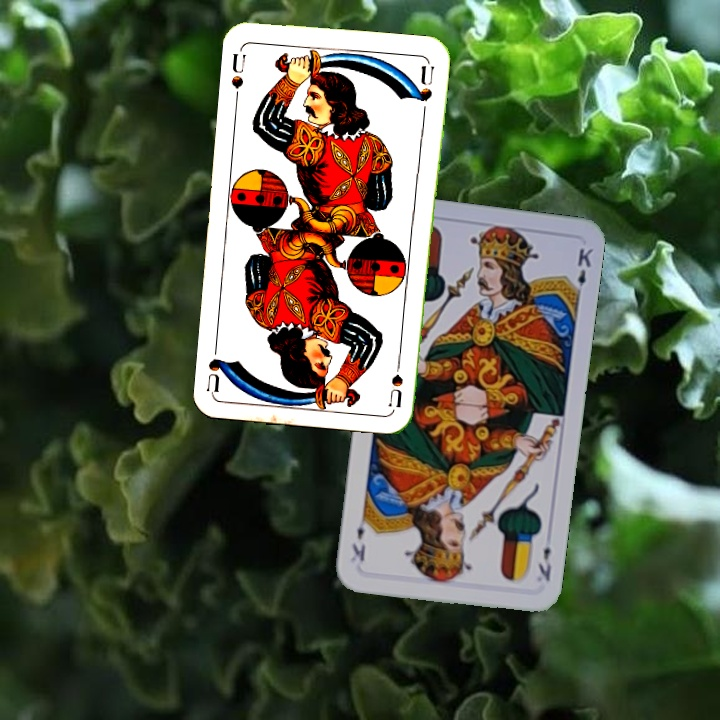EK: (534, 542, 554, 584)
SU: (386, 349, 405, 409), (227, 50, 249, 91)
